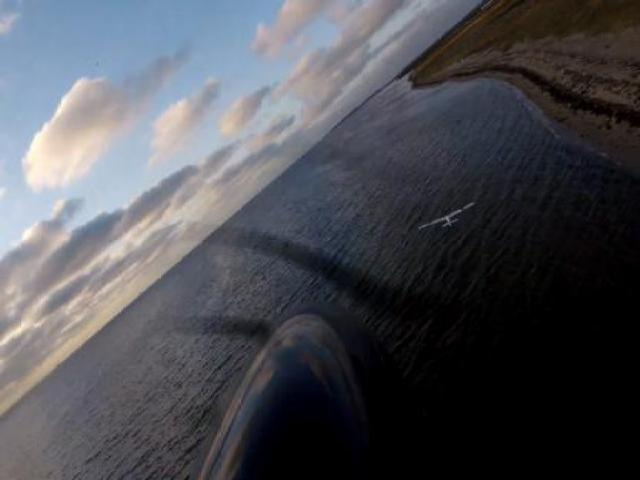uav: (419, 196, 475, 235)
